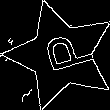P_W: (29, 30, 92, 81)
